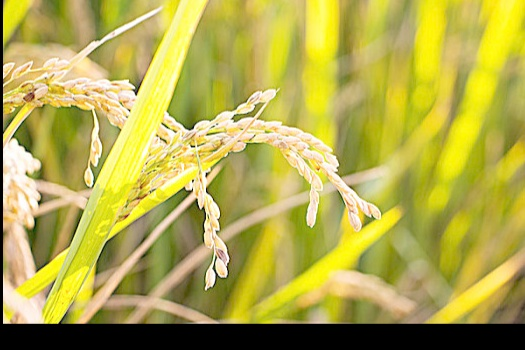rice: (143, 84, 379, 293)
